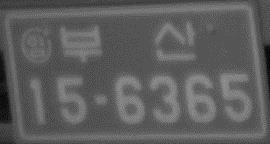-: (91, 91, 109, 106)
1: (26, 76, 49, 126)
3: (149, 73, 182, 125)
5: (219, 70, 254, 123), (54, 74, 89, 125)
6: (184, 72, 217, 125), (113, 74, 147, 125)
부산_D: (57, 19, 199, 63)
영: (20, 27, 55, 65)
